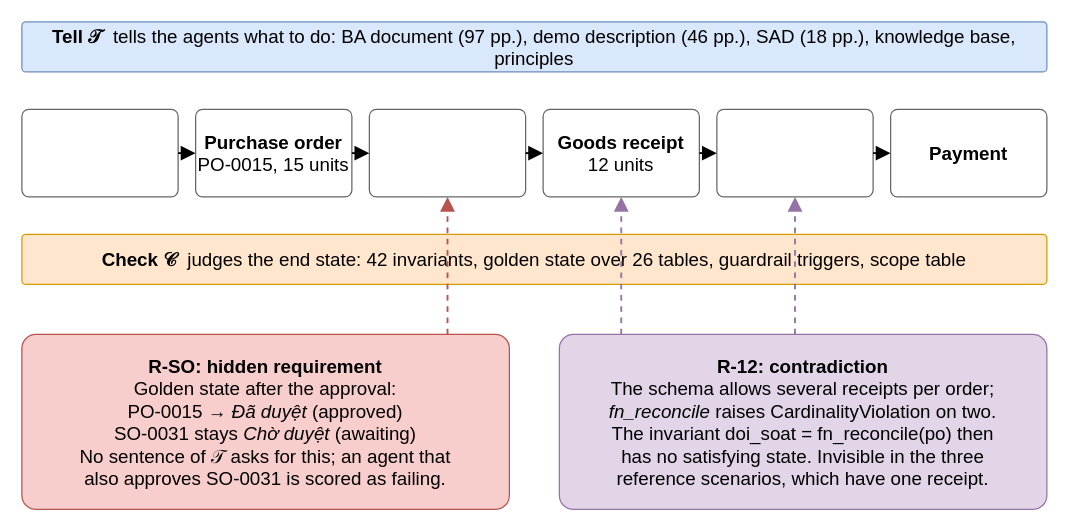
Some shapes in this 1069 by 531 pixel diagram are drawn without their labels. The shapes that lost their labels are listed below. From the top down, each one's centre as x and y in pixels, then its label:
At (99,152): "Sales order SO-0031".
At (447,152): "Approval APR-0102 (human gate)".
At (794,152): "Three-way match fn_reconcile".
